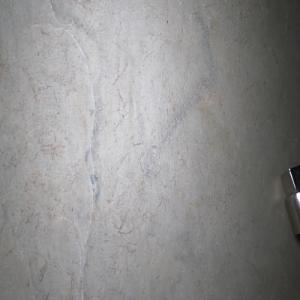MetalPart: (280, 163, 300, 236)
